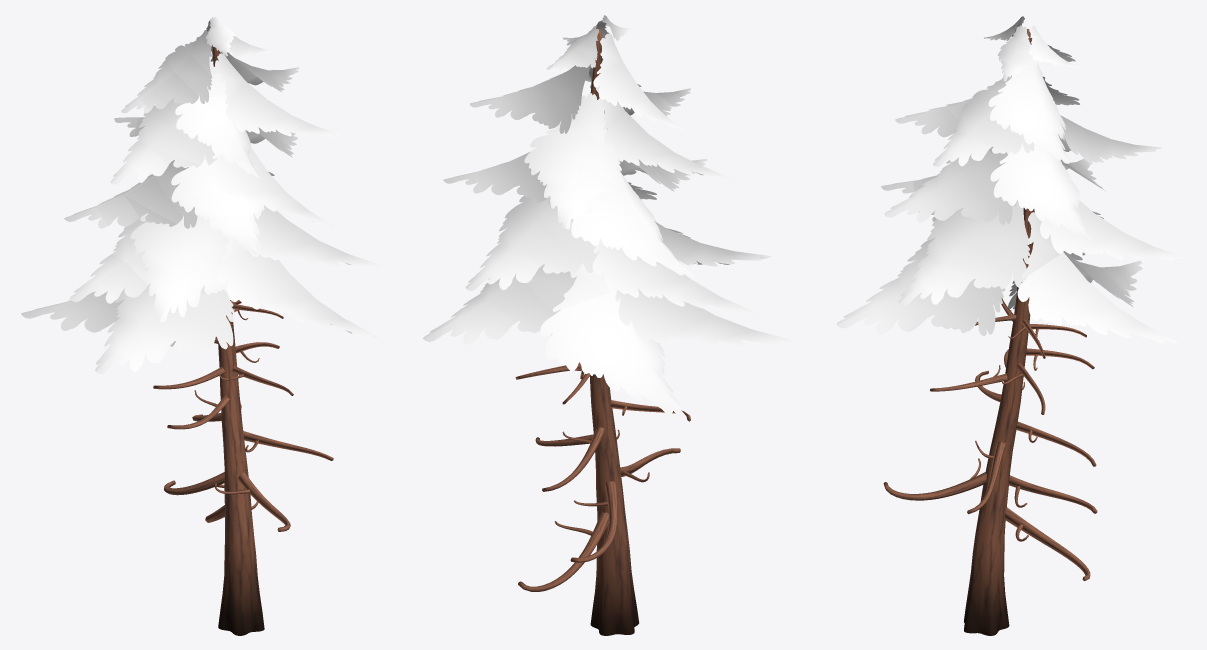
File: Pine_3.glb
3 views of the same model, side by side, from view 1: azimuth 30°, elevation 25°; view 2: azimuth 150°, elevation 25°; view 3: azimuth 270°, elevation 25° (orthographic). The views are drawn at different scales.
Visible parts, largest first — view 1: Pine_3; view 2: Pine_3; view 3: Pine_3.
Boxes of the visible parts, box(x1,y1,x2,y2) form: Pine_3: box(21, 16, 382, 635); Pine_3: box(423, 15, 794, 635); Pine_3: box(836, 16, 1186, 635).
Size of what is drawn, in the model's own units: 3.61 by 7.39 by 4.
2 materials, 2 textured.
